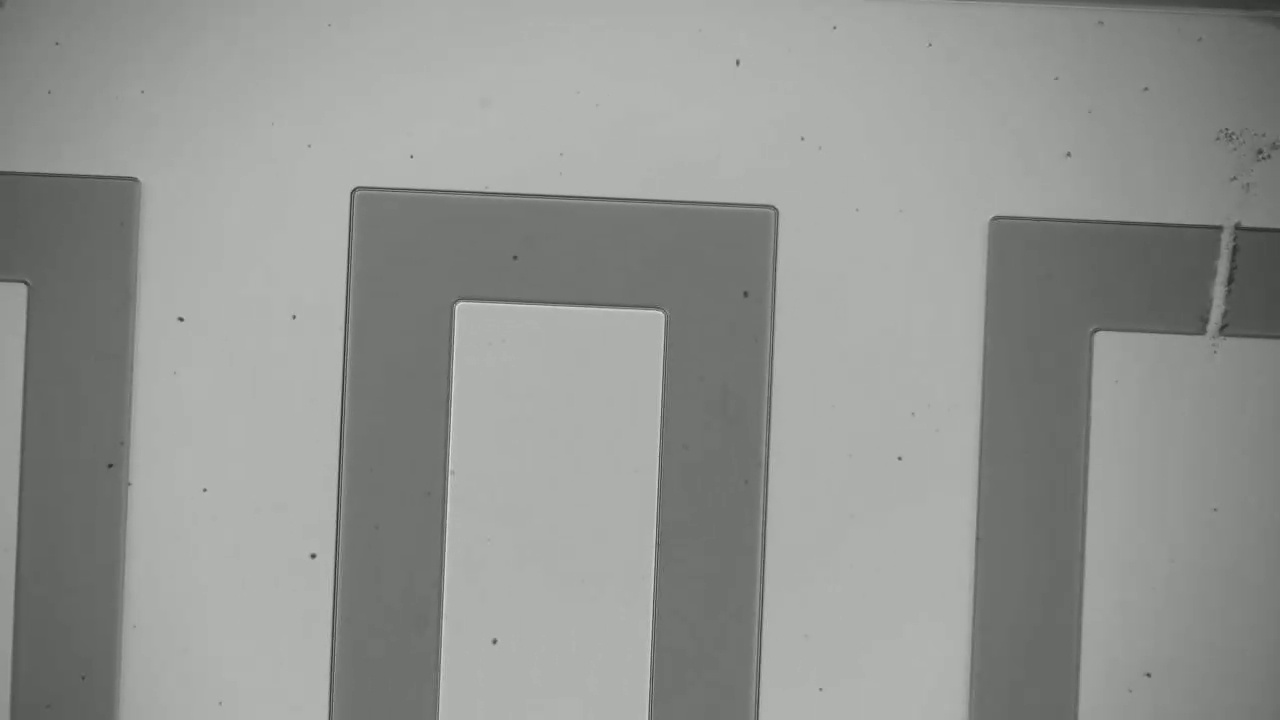Short_circuit: (1174, 208, 1257, 353)
